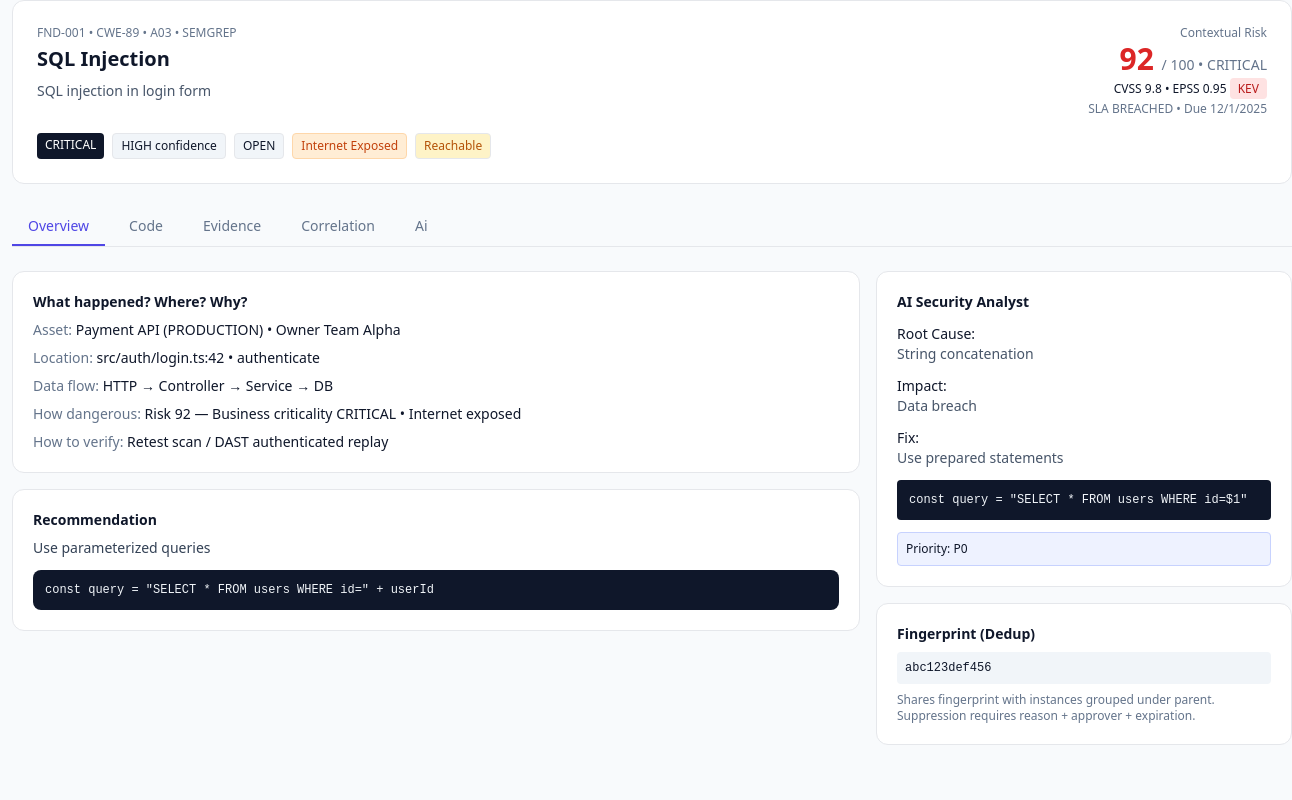
Test: FindingDetail › switches to code tab on click
Expected: the heading "SQL Injection" is shown, [37,45,170,72]
Click the button "code": (146, 227) [113,208,179,246]
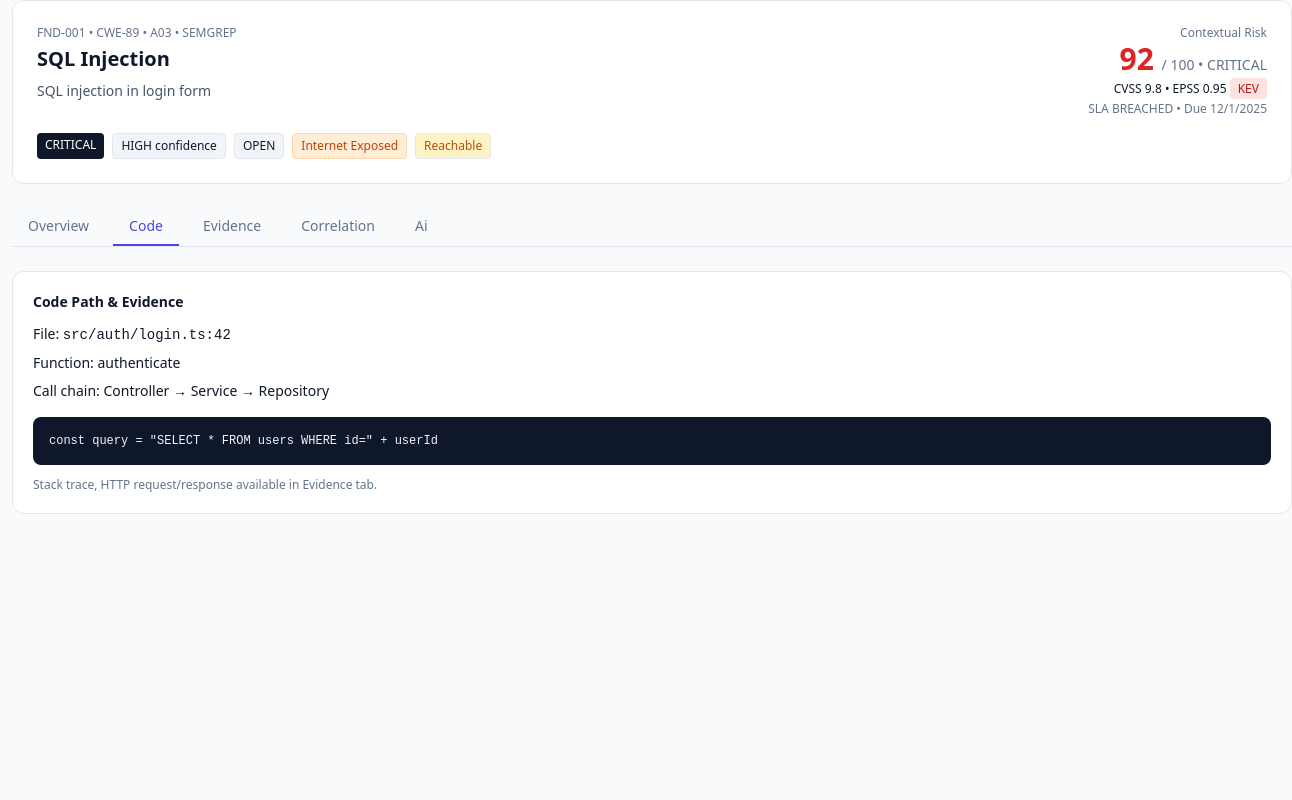
Result: the heading "Code Path & Evidence" is shown at [33,292,184,311]
